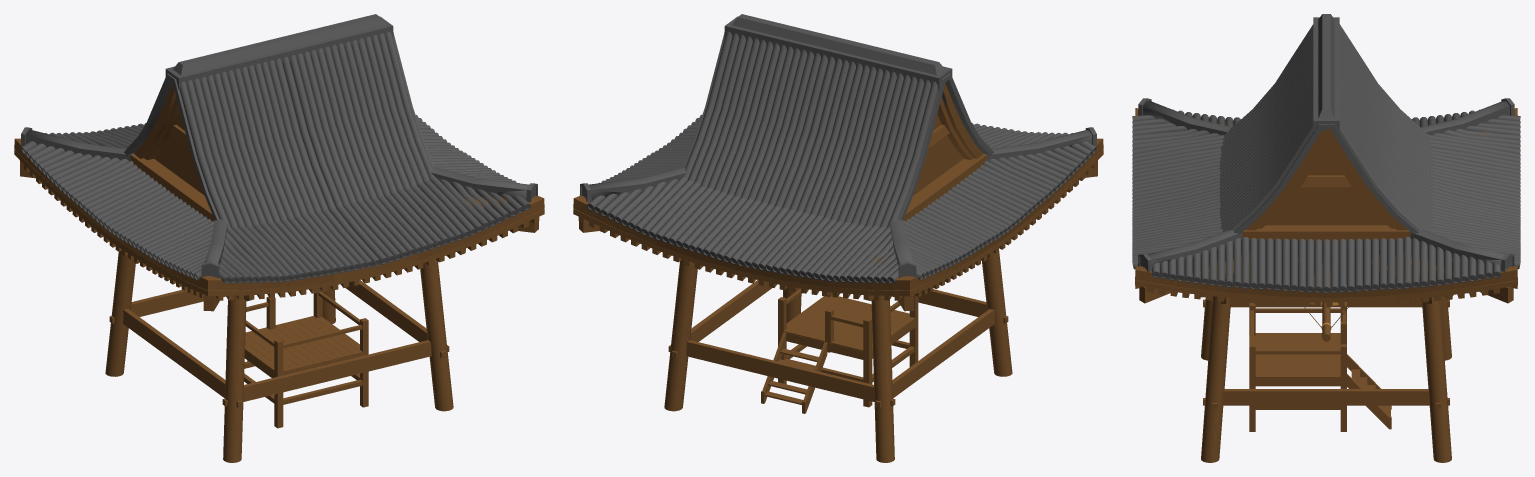
Rendered from mesh_house4.fbx.
3 renders of one model, left to right at view 1: azimuth 30°, elevation 25°; view 2: azimuth 150°, elevation 25°; view 3: azimuth 270°, elevation 25°, orthographic.
Visible parts, largest first — view 1: shrine_03_roof, shrine_03_wood; view 2: shrine_03_roof, shrine_03_wood; view 3: shrine_03_roof, shrine_03_wood.
Boxes of the visible parts, x1,y1,x2,y2 form: shrine_03_roof: (21, 14, 537, 283); shrine_03_wood: (14, 83, 544, 462); shrine_03_roof: (580, 14, 1096, 283); shrine_03_wood: (573, 83, 1103, 462); shrine_03_roof: (1132, 14, 1520, 293); shrine_03_wood: (1135, 108, 1517, 462).
Size of the model in its own units: 9.38 by 9.21 by 9.36.
